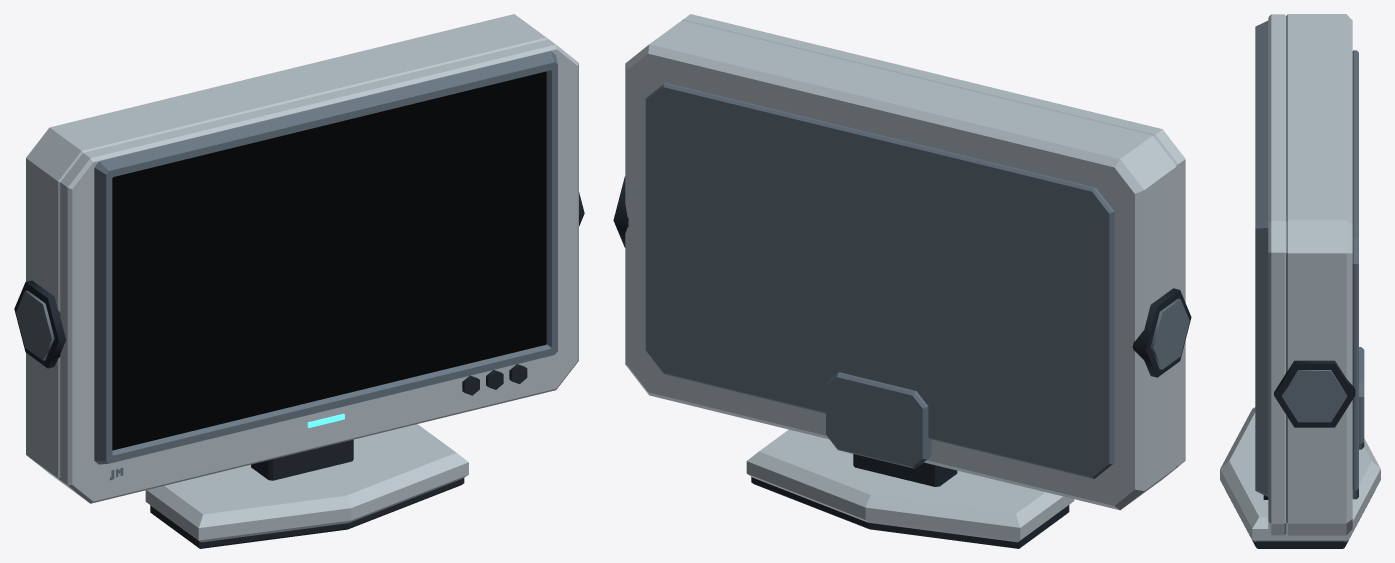
File: silver-orbit.glb
3 views of the same model, side by side, from view 1: azimuth 30°, elevation 25°; view 2: azimuth 150°, elevation 25°; view 3: azimuth 270°, elevation 25° (orthographic). The views are drawn at different scales.
Visible parts, largest first — view 1: monitor-display, front-bezel, rear-enclosure, raised-screen-bevel, hexagonal-foot, foot-sole, neck, hex-cap--1, hex-side--1; view 2: rear-panel, rear-enclosure, hexagonal-foot, rear-neck-mount, front-bezel, foot-sole, hex-cap--1, neck, hex-side--1; view 3: rear-enclosure, front-bezel, raised-screen-bevel, hexagonal-foot, rear-panel, hex-cap-1, hex-side-1, foot-sole, rear-neck-mount.
Boxes of the visible parts, bbox=[...] form: monitor-display: bbox=[112, 71, 546, 450]; front-bezel: bbox=[60, 39, 578, 503]; rear-enclosure: bbox=[26, 14, 548, 496]; raised-screen-bevel: bbox=[94, 51, 557, 464]; hexagonal-foot: bbox=[145, 424, 468, 542]; foot-sole: bbox=[150, 478, 464, 548]; neck: bbox=[251, 439, 353, 480]; hex-cap--1: bbox=[16, 290, 54, 360]; hex-side--1: bbox=[14, 280, 65, 368]; rear-panel: bbox=[645, 82, 1114, 478]; rear-enclosure: bbox=[625, 20, 1176, 510]; hexagonal-foot: bbox=[746, 429, 1074, 542]; rear-neck-mount: bbox=[826, 372, 931, 468]; front-bezel: bbox=[682, 14, 1185, 483]; foot-sole: bbox=[751, 477, 1069, 548]; hex-cap--1: bbox=[1150, 298, 1189, 369]; neck: bbox=[853, 454, 957, 486]; hex-side--1: bbox=[1132, 288, 1191, 377]; rear-enclosure: bbox=[1286, 14, 1352, 535]; front-bezel: bbox=[1268, 14, 1286, 535]; raised-screen-bevel: bbox=[1255, 20, 1268, 496]; hexagonal-foot: bbox=[1220, 407, 1380, 541]; rear-panel: bbox=[1352, 50, 1358, 499]; hex-cap-1: bbox=[1282, 370, 1347, 422]; hex-side-1: bbox=[1274, 360, 1355, 427]; foot-sole: bbox=[1226, 492, 1374, 548]; rear-neck-mount: bbox=[1359, 347, 1364, 449].
Size of the model in its own units: 6.31 by 4.66 by 1.82.
